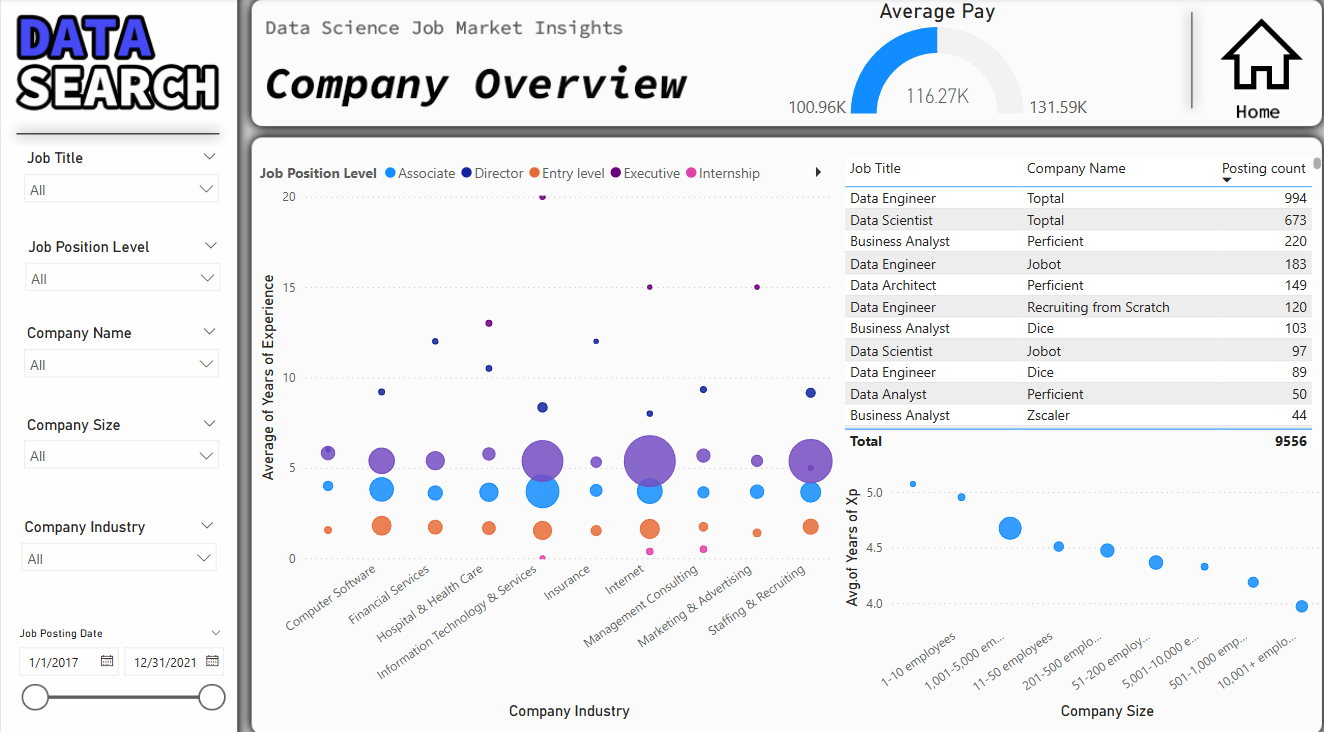

What the dashboard file says about the page in this screenshot:
{"tool":"powerbi","page":{"name":"Company","canvas":[1280,720],"ordinal":3},"visuals":[{"type":"slicer","fields":{"Values":["Job Postings.Job Title"]},"box":[11.7,141.7,208.3,86.7],"z":0},{"type":"slicer","fields":{"Values":["Job Postings.Job Position Level"]},"box":[13.3,226.7,208.3,86.7],"z":1000},{"type":"slicer","fields":{"Values":["Job Postings.Company Name"]},"box":[11.7,310,208.3,86.7],"z":2000},{"type":"slicer","fields":{"Values":["Job Postings.Company Industry"]},"box":[10,496.7,208.3,86.7],"z":3000},{"type":"slicer","fields":{"Values":["Job Postings.Job Posting Date"]},"box":[5,601.7,220,100],"z":4000},{"type":"slicer","fields":{"Values":["Job Postings.Company Size"]},"box":[11.7,398.3,208.3,86.7],"z":5000},{"type":"gauge","title":"Average Pay","fields":{"Y":["__Measures.Avg of Avg Pay"],"MaxValue":["Avg(Job Postings.Maximum Pay)"],"MinValue":["Avg(Job Postings.Minimum Pay)"]},"box":[680,0,446.7,121.7],"z":6000},{"type":"scatterChart","fields":{"X":["Job Postings.Company Industry"],"Y":["Avg(Job Postings.Years of Experience)"],"Size":["__Measures.Posting count"],"Series":["Job Postings.Job Position Level"]},"box":[245,148.3,563.3,553.3],"z":8000},{"type":"tableEx","fields":{"Values":["Job Postings.Job Title","Job Postings.Company Name","__Measures.Posting count"]},"box":[808.3,148.3,471.7,293.3],"z":9000},{"type":"scatterChart","fields":{"Y":["Avg(Job Postings.Years of Experience)"],"X":["Job Postings.Company Size"],"Size":["__Measures.Posting count"]},"box":[808.3,441.7,471.7,260],"z":10000},{"type":"image","box":[1170,10,93.3,90],"z":10001}]}

Visuals, with their boxes on the page's 1280x720 design canvas (x1, y1, x2, y2). These are canvas units, not pixel positions in the 1324x732 screenshot, which may show the page scaled, cropped or inside an application window:
slicer - Job Postings.Job Title: {"x1": 12, "y1": 142, "x2": 220, "y2": 228}
slicer - Job Postings.Job Position Level: {"x1": 13, "y1": 227, "x2": 222, "y2": 313}
slicer - Job Postings.Company Name: {"x1": 12, "y1": 310, "x2": 220, "y2": 397}
slicer - Job Postings.Company Industry: {"x1": 10, "y1": 497, "x2": 218, "y2": 583}
slicer - Job Postings.Job Posting Date: {"x1": 5, "y1": 602, "x2": 225, "y2": 702}
slicer - Job Postings.Company Size: {"x1": 12, "y1": 398, "x2": 220, "y2": 485}
"Average Pay" gauge: {"x1": 680, "y1": 0, "x2": 1127, "y2": 122}
scatterChart - Job Postings.Company Industry x Avg(Job Postings.Years of Experience): {"x1": 245, "y1": 148, "x2": 808, "y2": 702}
tableEx - Job Postings.Job Title x Job Postings.Company Name: {"x1": 808, "y1": 148, "x2": 1280, "y2": 442}
scatterChart - Avg(Job Postings.Years of Experience) x Job Postings.Company Size: {"x1": 808, "y1": 442, "x2": 1280, "y2": 702}
image: {"x1": 1170, "y1": 10, "x2": 1263, "y2": 100}
